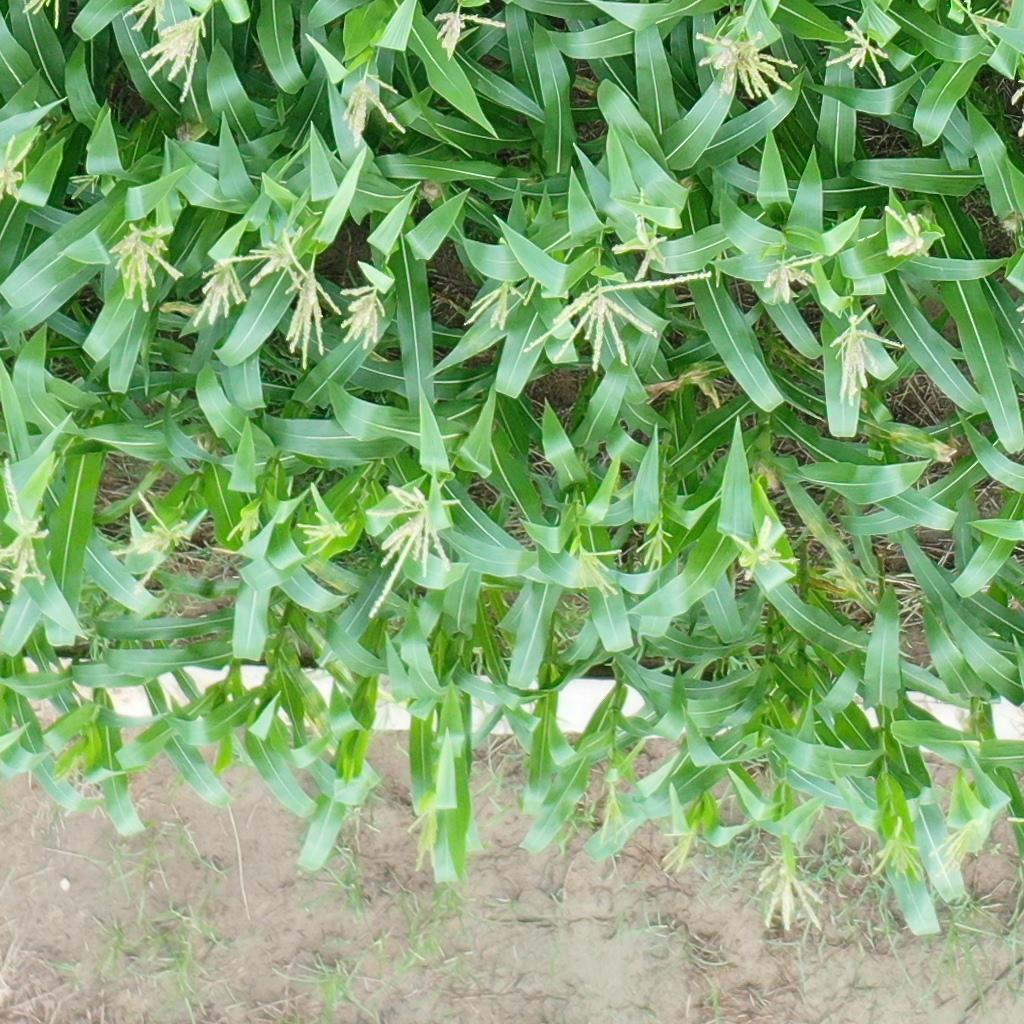Tassel: (520, 269, 716, 371), (362, 481, 460, 616), (824, 293, 907, 413), (690, 22, 799, 100), (112, 487, 194, 590), (1, 456, 53, 604), (107, 218, 184, 316), (142, 15, 209, 104), (284, 273, 346, 369), (612, 188, 677, 279), (334, 68, 410, 143), (820, 14, 897, 87), (726, 513, 802, 586), (757, 855, 827, 933), (238, 224, 311, 297), (187, 259, 251, 330), (928, 810, 994, 875), (868, 819, 926, 887), (758, 247, 824, 305), (429, 10, 510, 56), (466, 281, 528, 336), (572, 544, 624, 607), (343, 282, 393, 347), (406, 799, 443, 877), (956, 1, 1007, 56), (879, 204, 929, 260), (597, 776, 636, 846), (294, 506, 344, 556), (657, 822, 703, 873), (1, 133, 33, 202), (638, 523, 677, 579), (120, 1, 169, 33), (57, 172, 103, 204), (17, 1, 68, 28), (224, 514, 260, 547)
